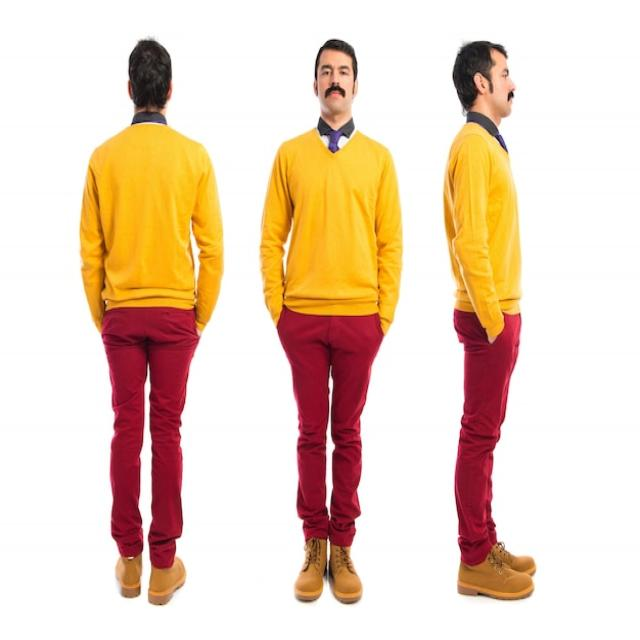Person: (258, 37, 402, 604), (80, 37, 223, 604), (442, 42, 536, 600)
